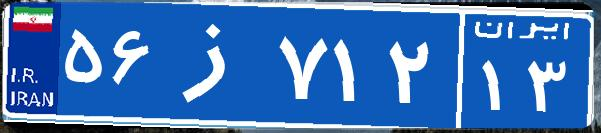1: (330, 28, 385, 110), (475, 38, 525, 113)
2: (385, 28, 445, 110)
3: (525, 38, 570, 115)
5: (57, 26, 110, 107)
6: (110, 28, 158, 105)
7: (273, 28, 330, 110)
ز: (158, 15, 273, 115)
